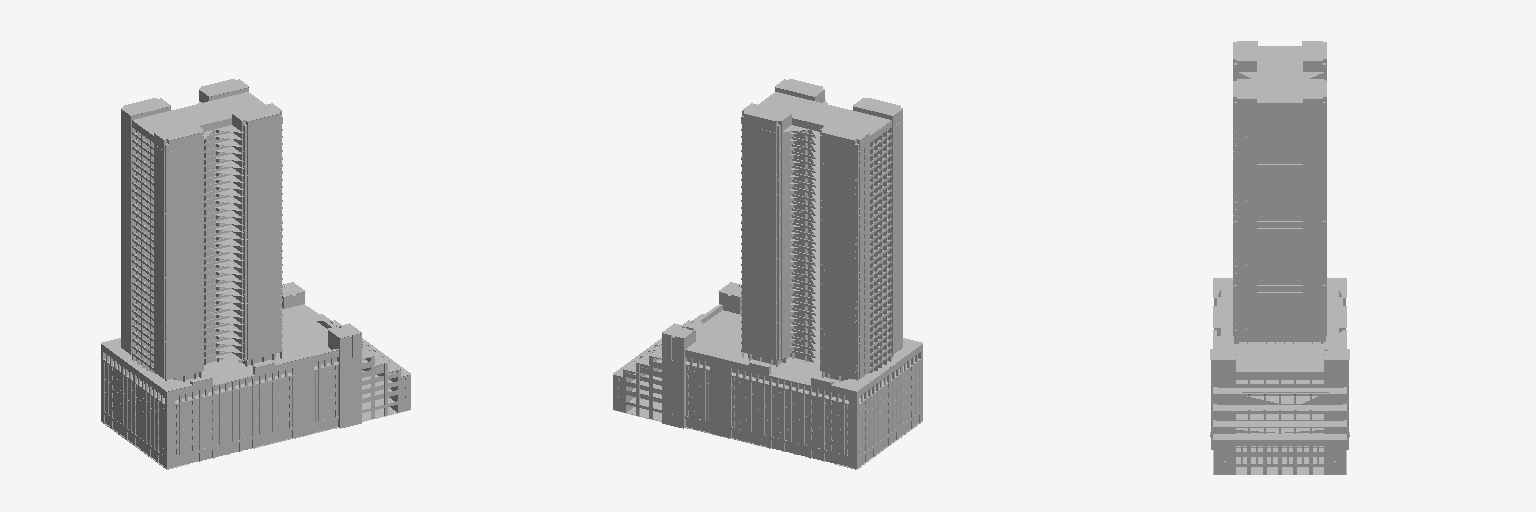
The model's file is building1.obj.
The picture shows the model from 3 angles: view 1: azimuth 30°, elevation 25°; view 2: azimuth 150°, elevation 25°; view 3: azimuth 270°, elevation 25°; orthographic projection.
Parts seen in each view (by area): view 1: Mesh637 G_2_2 G_4_1 Model, Mesh255 G_2_1 G_4_1 Model, Mesh258 G_3_1 G_4_1 Model, Mesh21 G_1_1 G_4_1 Model, Mesh891 G_4356_1 G_22_1 G_4_1 Model, Mesh892 G_4356_2 G_22_1 G_4_1 Model, Mesh1176 G_4356_4 G_22_2 G_4_1 Model, Mesh1175 G_4356_3 G_22_2 G_4_1 Model; view 2: Mesh255 G_2_1 G_4_1 Model, Mesh637 G_2_2 G_4_1 Model, Mesh259 G_3_2 G_4_1 Model, Mesh257 G_1_2 G_4_1 Model, Mesh1175 G_4356_3 G_22_2 G_4_1 Model, Mesh1176 G_4356_4 G_22_2 G_4_1 Model, Mesh892 G_4356_2 G_22_1 G_4_1 Model, Mesh891 G_4356_1 G_22_1 G_4_1 Model; view 3: Mesh258 G_3_1 G_4_1 Model, Mesh259 G_3_2 G_4_1 Model, Mesh255 G_2_1 G_4_1 Model, Mesh637 G_2_2 G_4_1 Model, Mesh1175 G_4356_3 G_22_2 G_4_1 Model, Mesh891 G_4356_1 G_22_1 G_4_1 Model, Mesh1176 G_4356_4 G_22_2 G_4_1 Model, Mesh892 G_4356_2 G_22_1 G_4_1 Model, Mesh21 G_1_1 G_4_1 Model, Mesh257 G_1_2 G_4_1 Model.
Part boxes in pixels (bbox=[...]): Mesh637 G_2_2 G_4_1 Model: bbox=[134, 321, 338, 468]; Mesh255 G_2_1 G_4_1 Model: bbox=[101, 304, 325, 444]; Mesh258 G_3_1 G_4_1 Model: bbox=[362, 347, 410, 421]; Mesh21 G_1_1 G_4_1 Model: bbox=[328, 324, 361, 428]; Mesh891 G_4356_1 G_22_1 G_4_1 Model: bbox=[202, 100, 282, 132]; Mesh892 G_4356_2 G_22_1 G_4_1 Model: bbox=[143, 114, 212, 151]; Mesh1176 G_4356_4 G_22_2 G_4_1 Model: bbox=[121, 98, 200, 134]; Mesh1175 G_4356_3 G_22_2 G_4_1 Model: bbox=[191, 79, 258, 113]; Mesh255 G_2_1 G_4_1 Model: bbox=[685, 321, 889, 468]; Mesh637 G_2_2 G_4_1 Model: bbox=[698, 304, 922, 444]; Mesh259 G_3_2 G_4_1 Model: bbox=[613, 347, 661, 421]; Mesh257 G_1_2 G_4_1 Model: bbox=[662, 326, 695, 428]; Mesh1175 G_4356_3 G_22_2 G_4_1 Model: bbox=[741, 100, 821, 132]; Mesh1176 G_4356_4 G_22_2 G_4_1 Model: bbox=[811, 114, 880, 151]; Mesh892 G_4356_2 G_22_1 G_4_1 Model: bbox=[823, 98, 902, 134]; Mesh891 G_4356_1 G_22_1 G_4_1 Model: bbox=[765, 79, 832, 113]; Mesh258 G_3_1 G_4_1 Model: bbox=[1214, 387, 1279, 474]; Mesh259 G_3_2 G_4_1 Model: bbox=[1280, 387, 1345, 474]; Mesh255 G_2_1 G_4_1 Model: bbox=[1280, 278, 1345, 395]; Mesh637 G_2_2 G_4_1 Model: bbox=[1214, 285, 1279, 395]; Mesh1175 G_4356_3 G_22_2 G_4_1 Model: bbox=[1280, 74, 1326, 109]; Mesh891 G_4356_1 G_22_1 G_4_1 Model: bbox=[1233, 74, 1279, 109]; Mesh1176 G_4356_4 G_22_2 G_4_1 Model: bbox=[1280, 41, 1326, 78]; Mesh892 G_4356_2 G_22_1 G_4_1 Model: bbox=[1233, 41, 1279, 78]; Mesh21 G_1_1 G_4_1 Model: bbox=[1210, 349, 1235, 449]; Mesh257 G_1_2 G_4_1 Model: bbox=[1324, 349, 1349, 449].
Bounding box in the file's own units: 7493 × 9327 × 3683.